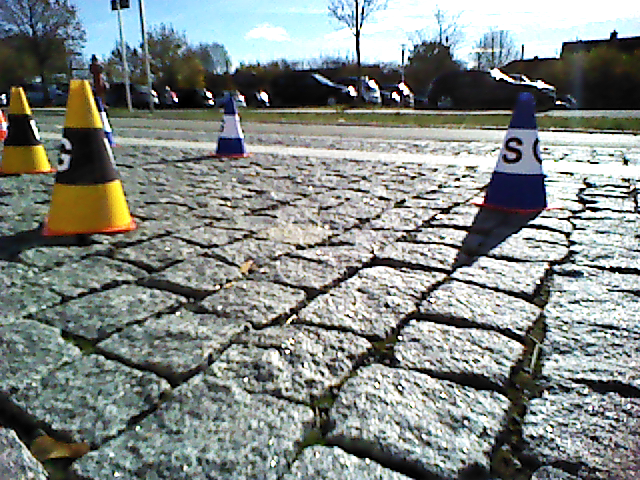bluecone: (486, 91, 548, 210), (217, 97, 243, 154)
yellowcone: (51, 79, 129, 230), (1, 85, 50, 173)
